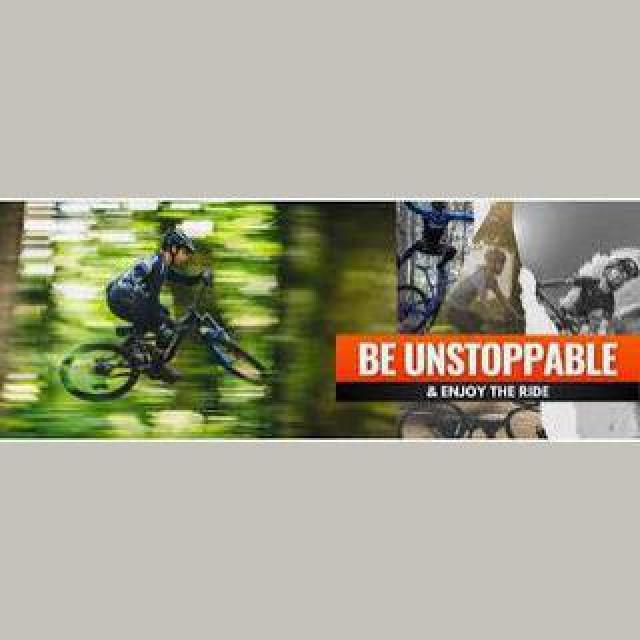MC-Bike: (104, 226, 218, 376)
Person: (68, 284, 266, 400), (392, 400, 546, 442)
